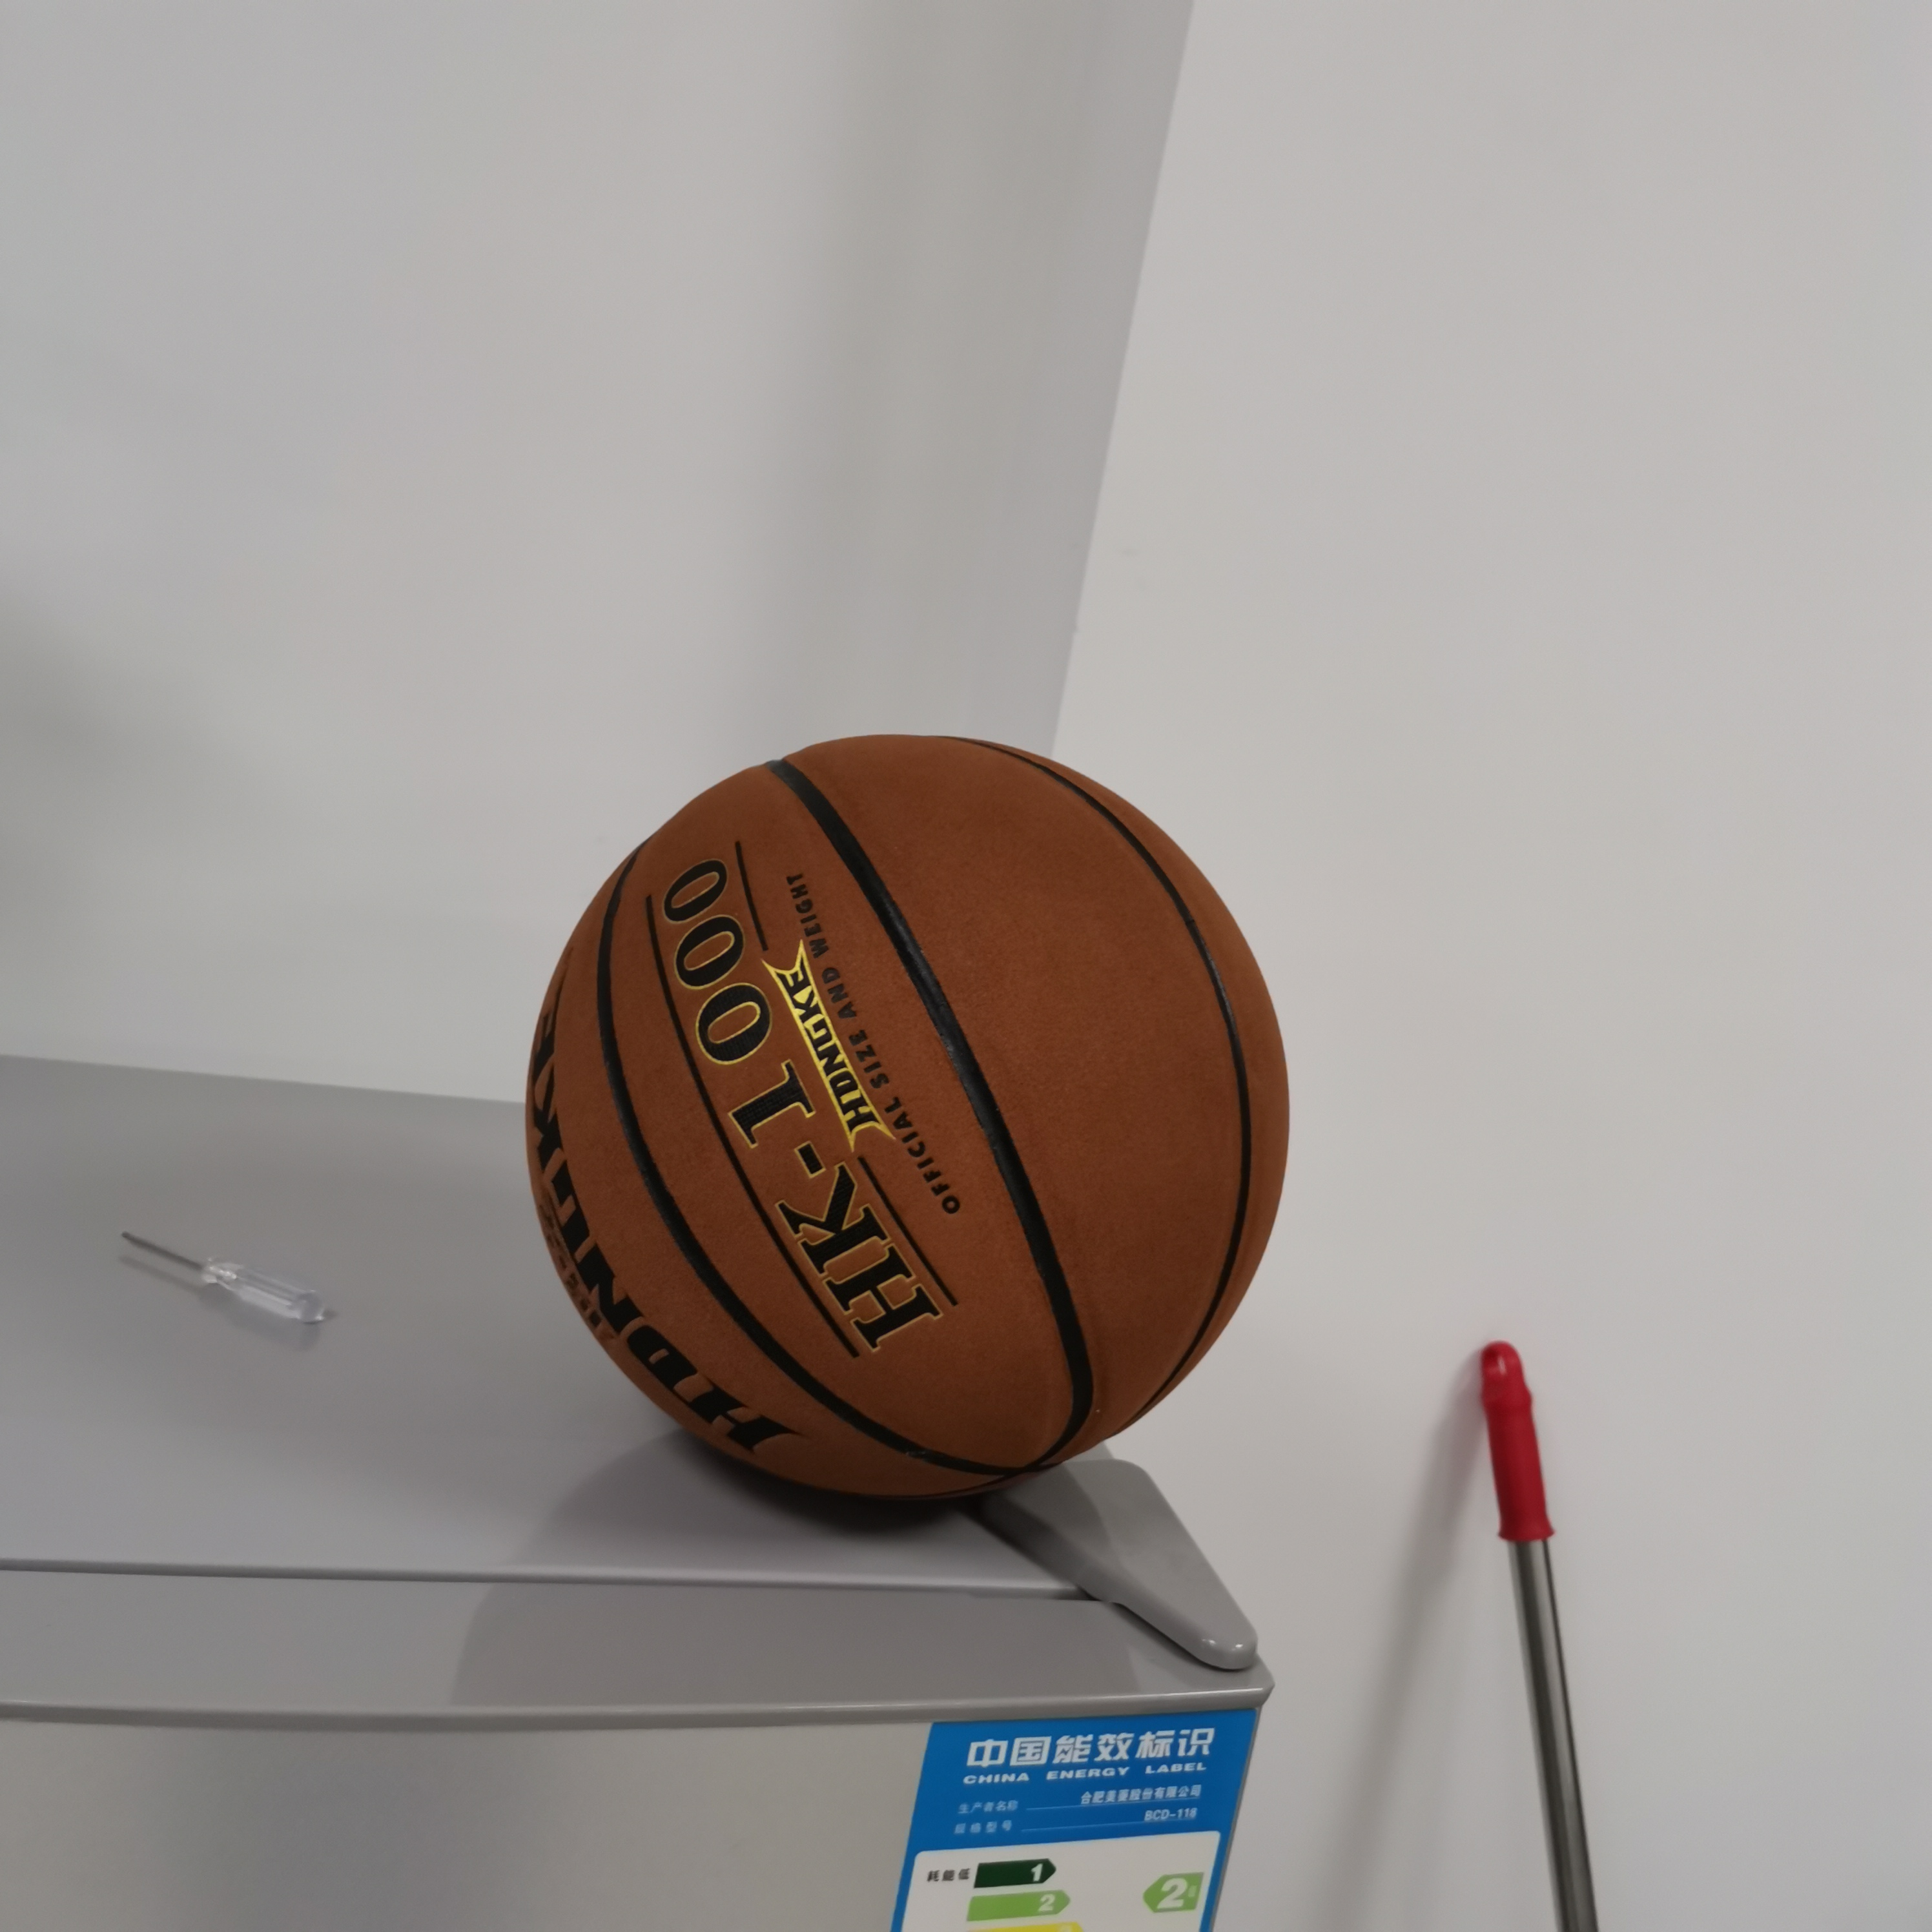basketball: (524, 736, 1297, 1507)
